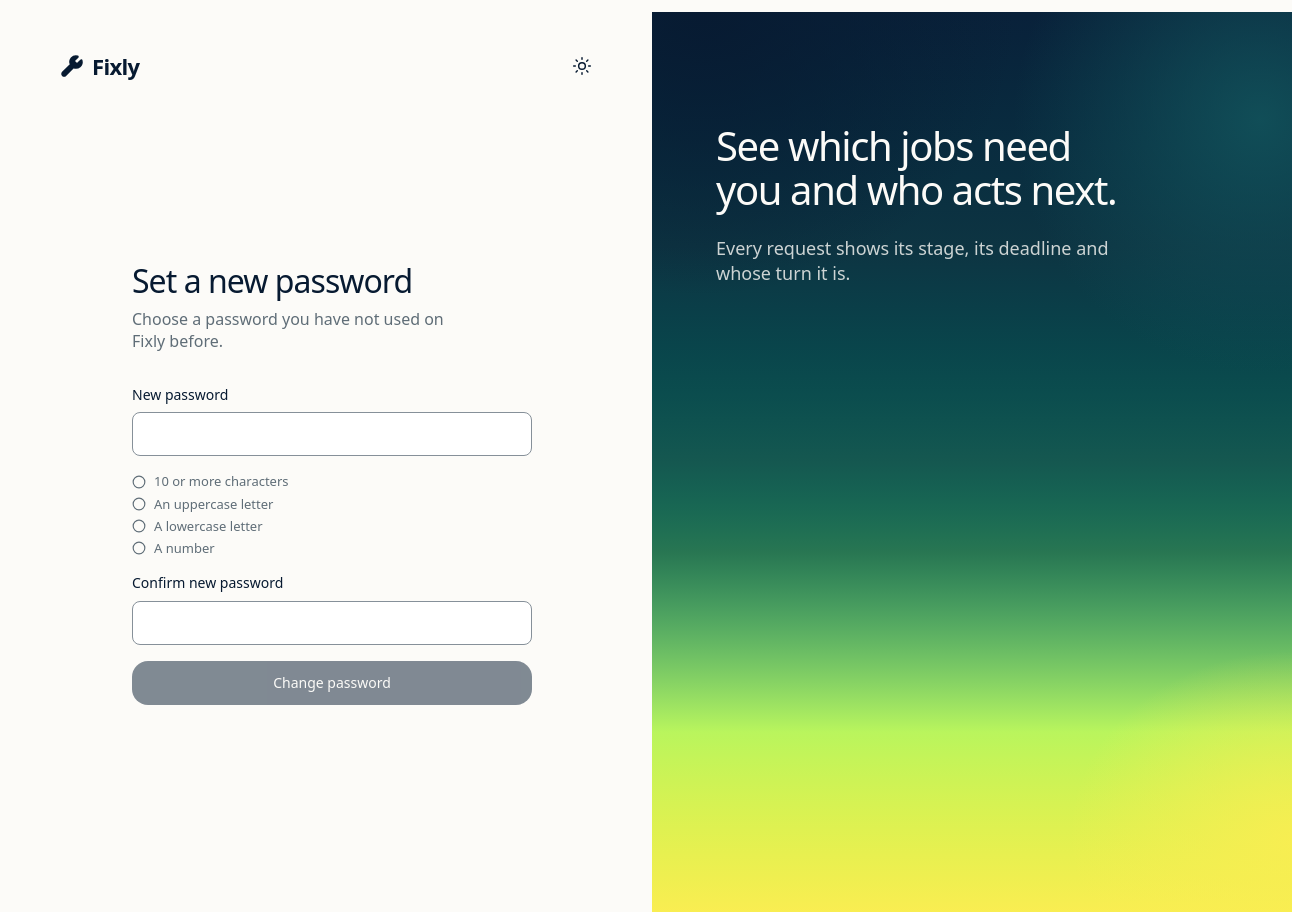
ResetPassword success clears the session and navigates with a notice
This screenshot has width=1292, height=912.
Type "Abcdefghi1" into the password field labelled "New password" at (332, 434), box top-left (132, 412), bottom-right (532, 456)
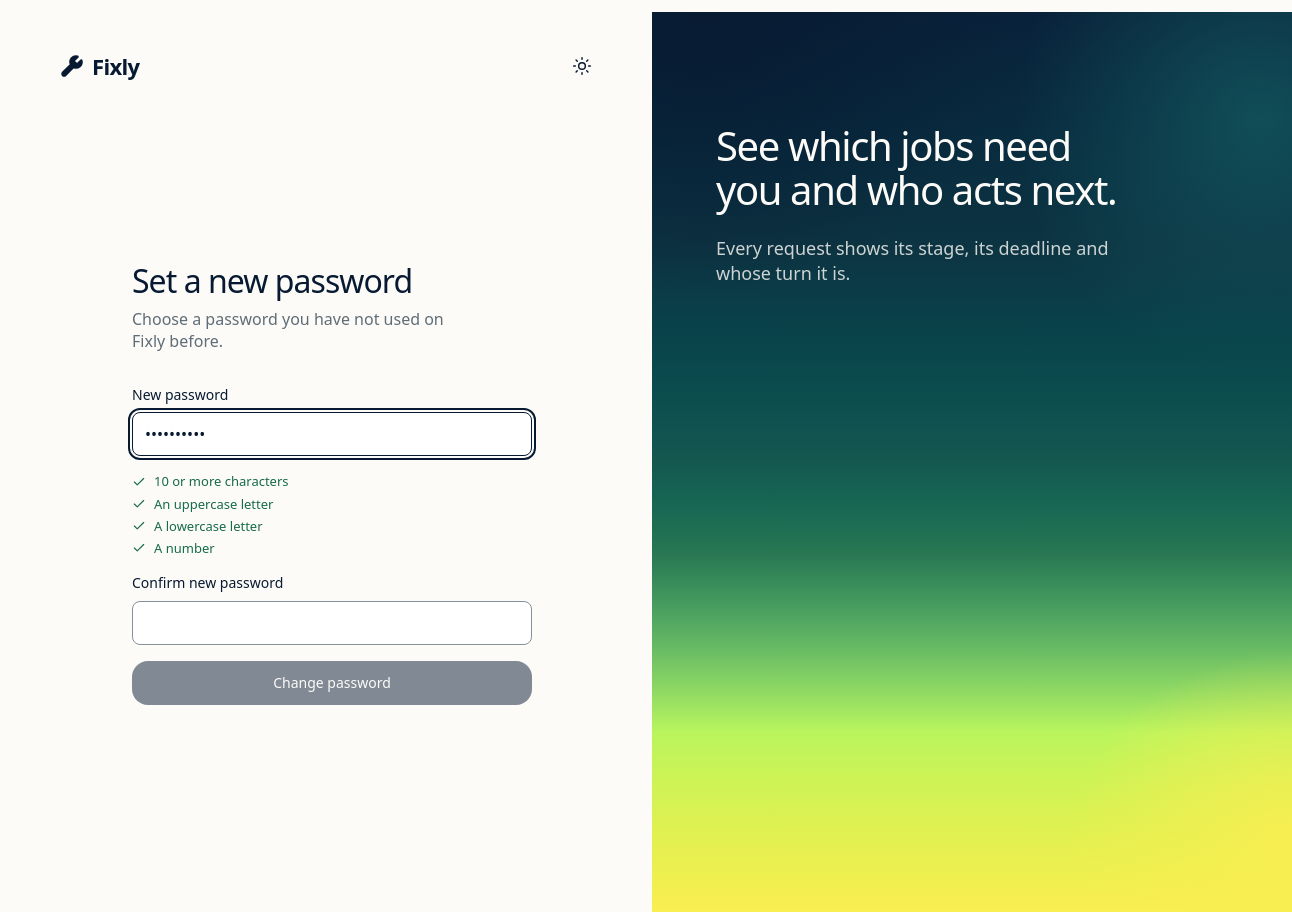
Type "Abcdefghi1" into the password field labelled "Confirm new password" at (332, 623), box top-left (132, 601), bottom-right (532, 645)
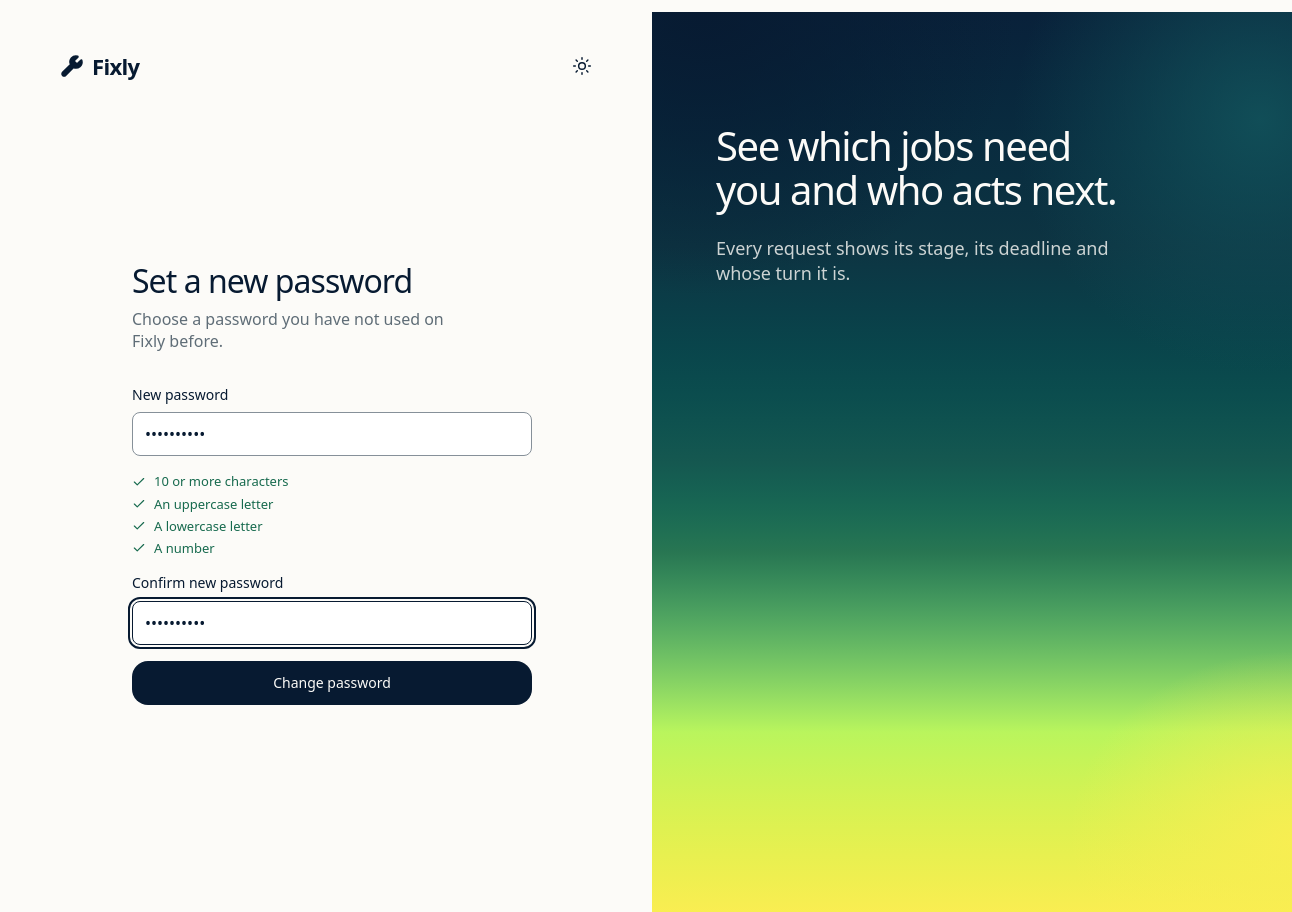
Click the button "Change password" at (332, 683), box top-left (132, 661), bottom-right (532, 705)
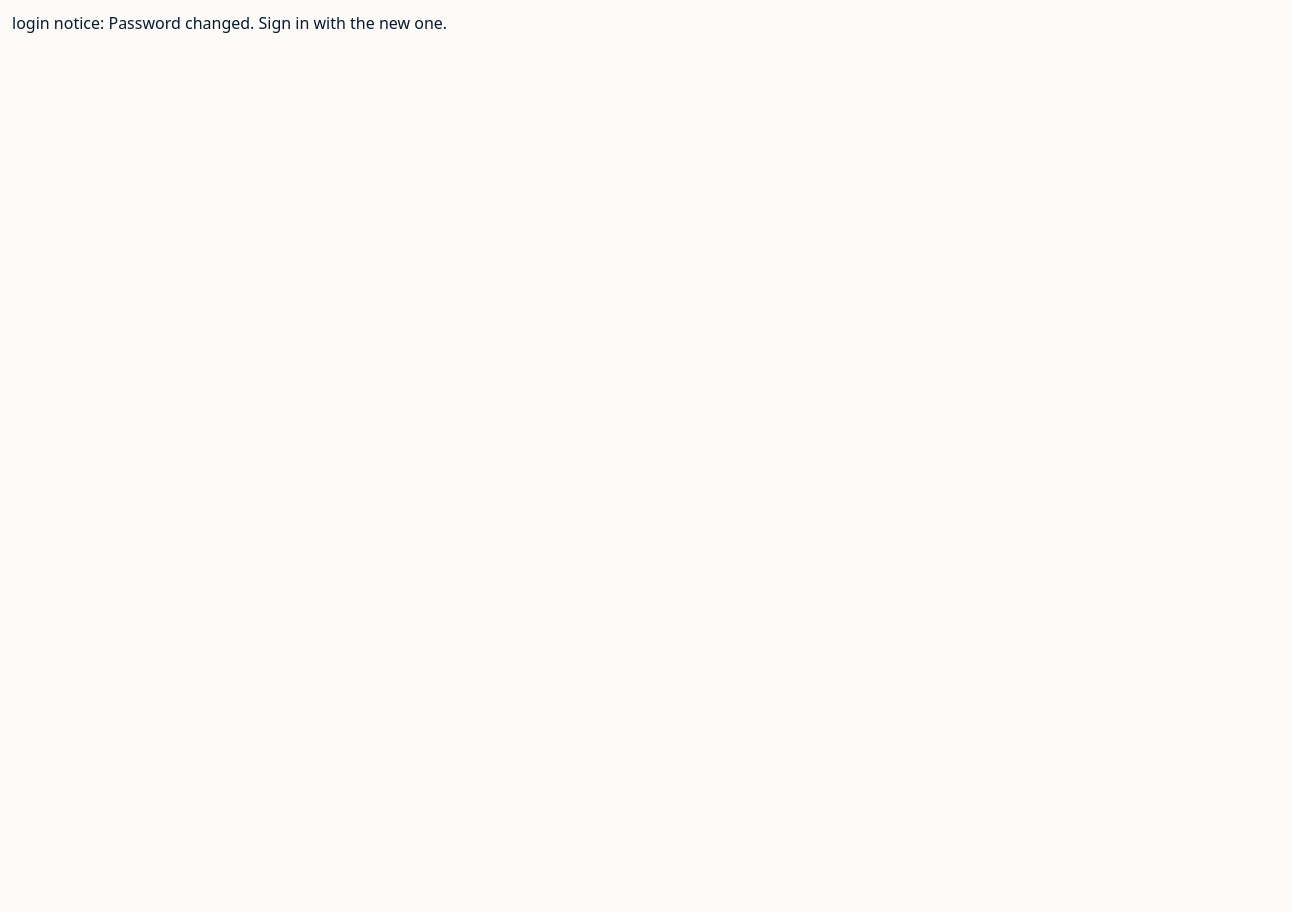
Now the text "login notice: Password changed. Sign in with the new one." is shown, box top-left (12, 12), bottom-right (447, 34)
